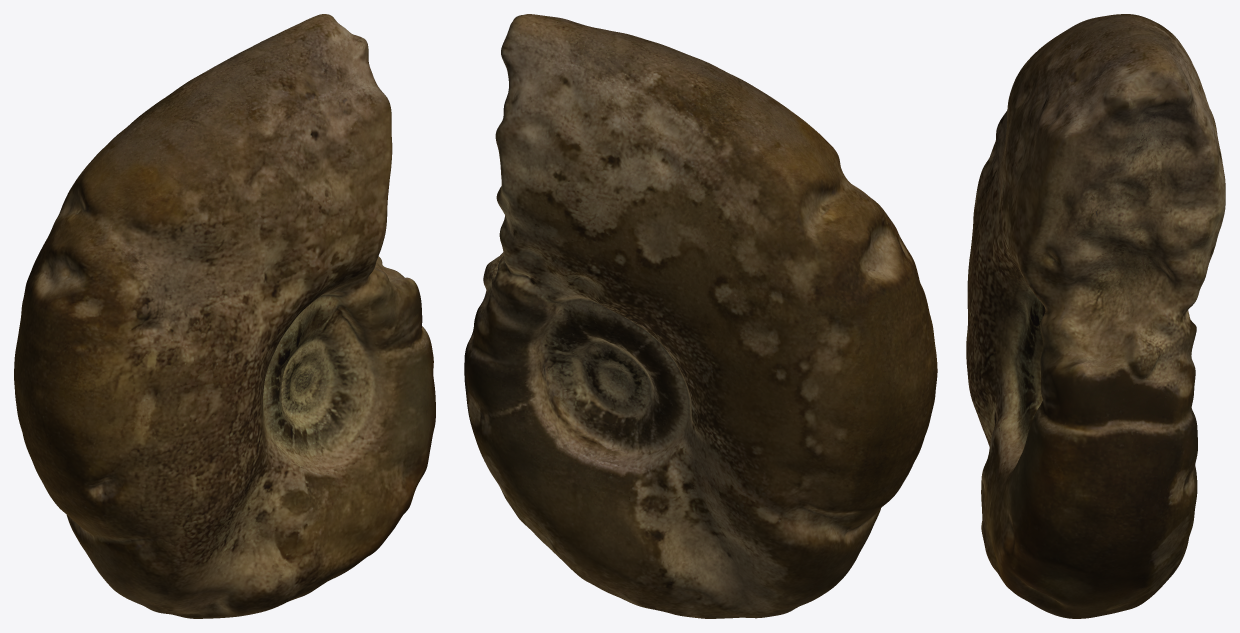
The model's file is shell.glb.
3 renders of one model, left to right at view 1: azimuth 30°, elevation 25°; view 2: azimuth 150°, elevation 25°; view 3: azimuth 270°, elevation 25°, orthographic. The views are drawn at different scales.
Bounding box in the file's own units: 1.48 × 1.9 × 0.7493.
1 material, 1 textured.
